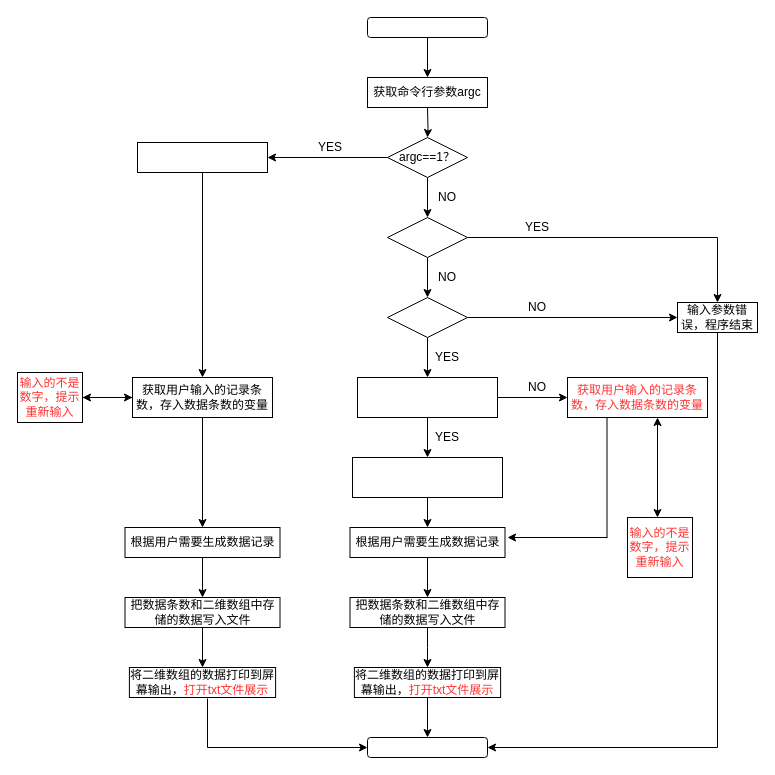
The diagram is 775 pixels wide and 775 high, and some of its shapes have lost their labels. Here are the shapes that lost their labels. From the top down, the centre of each, then its label:
At point 427,27: "Run函数开始".
At point 202,157: "提示用户输入数据条数".
At point 427,237: "argc==2？".
At point 427,317: "argc==3？".
At point 427,397: "读取argv[2]为文件名， 判断argv[1]是否为数字".
At point 427,477: "把argv[1]转换为数字并且存储到记录数据条数的变量".
At point 427,747: "Run函数结束".
